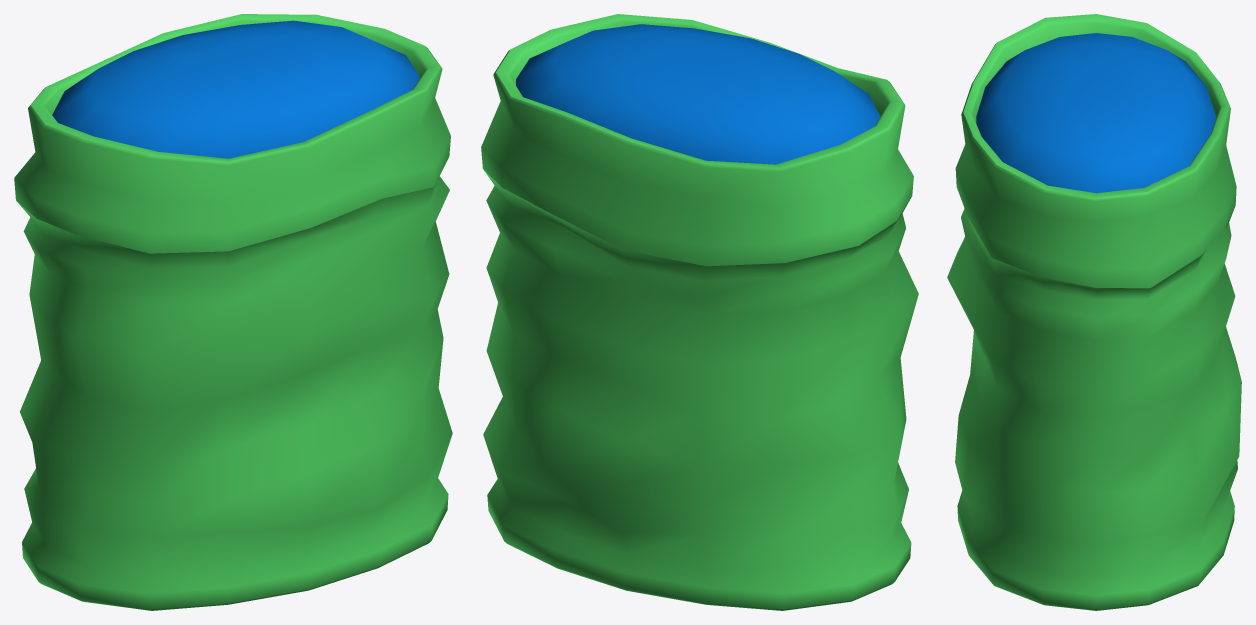
Rendered from Sack_Open.fbx.
3 views of the same model, side by side, from view 1: azimuth 30°, elevation 25°; view 2: azimuth 150°, elevation 25°; view 3: azimuth 270°, elevation 25° (orthographic). The views are drawn at different scales.
Parts seen in each view (by area): view 1: Sack_open; view 2: Sack_open; view 3: Sack_open.
Part boxes in pixels (box(x1,y1,x2,y2)): Sack_open: box(14, 14, 452, 610); Sack_open: box(481, 14, 918, 610); Sack_open: box(947, 14, 1241, 610).
Size of the model in its own units: 26.6 by 30.03 by 18.1.
